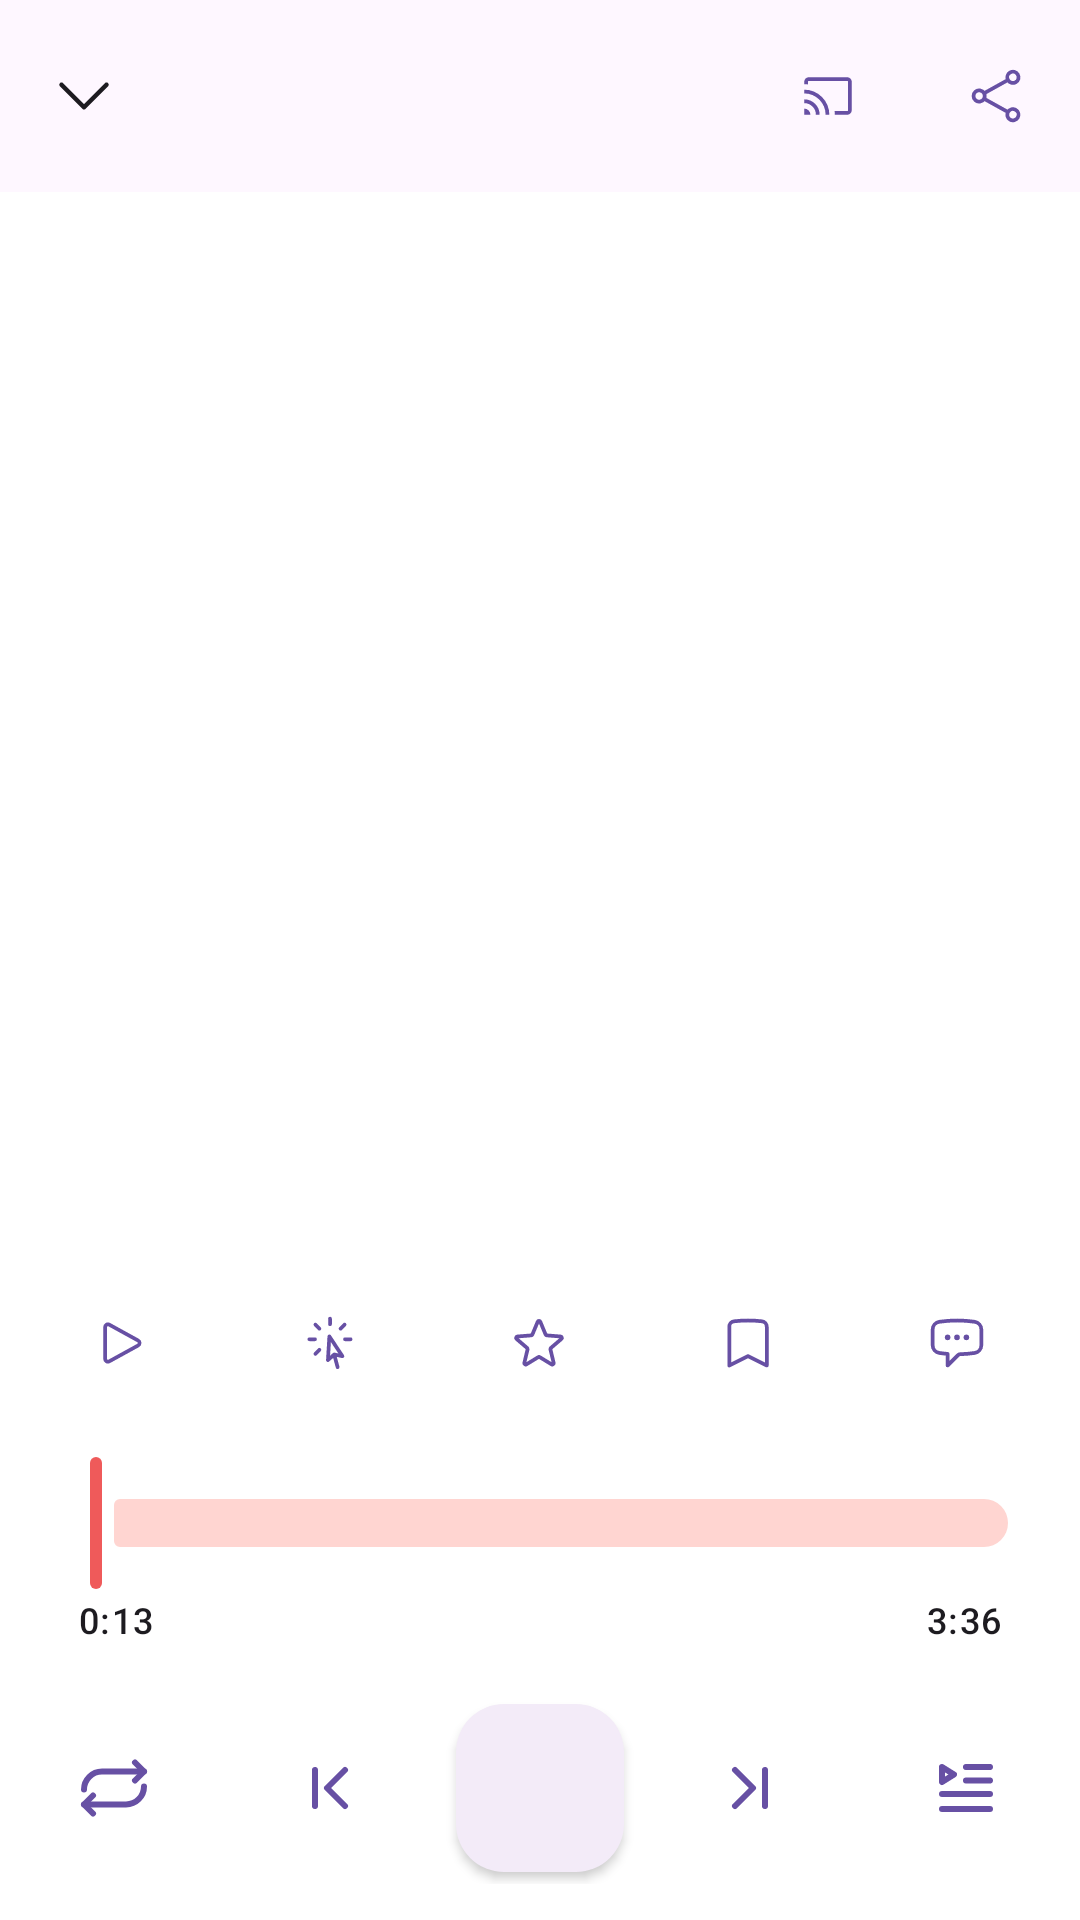

Icons on this 1080 x 1920 Android screen, each with the point to tap as point (x, y):
bookmark count: point (748, 1343)
cast: point (828, 96)
chat bubble count: point (957, 1343)
click count: point (330, 1343)
music list: point (966, 1788)
music next: point (750, 1788)
music prev: point (330, 1788)
play count: point (122, 1343)
play cycle: point (114, 1788)
share: point (996, 96)
star count: point (539, 1343)
